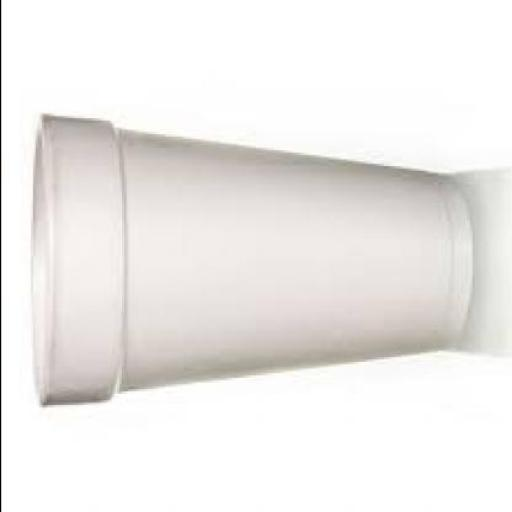paper: (30, 116, 475, 407)
